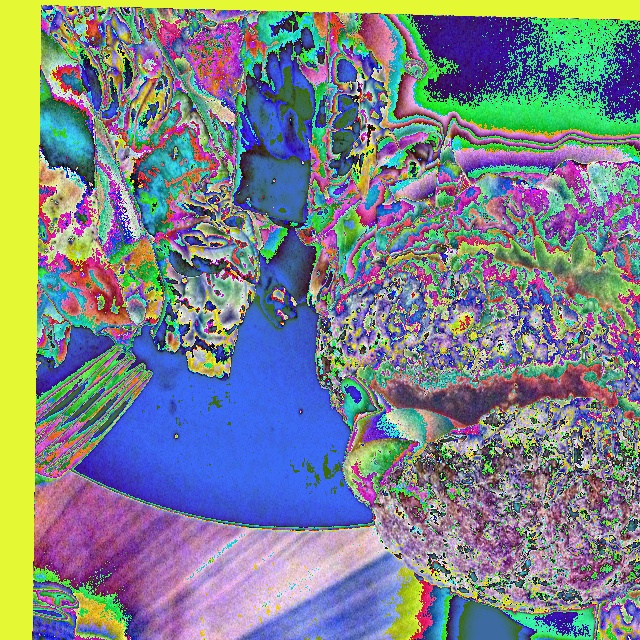background: (37, 7, 639, 639)
